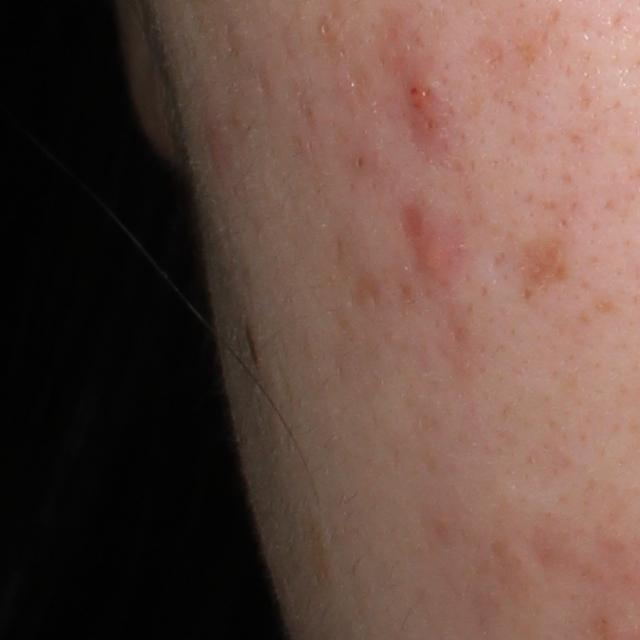comedo: (354, 155, 366, 171)
papule: (399, 73, 445, 129)
